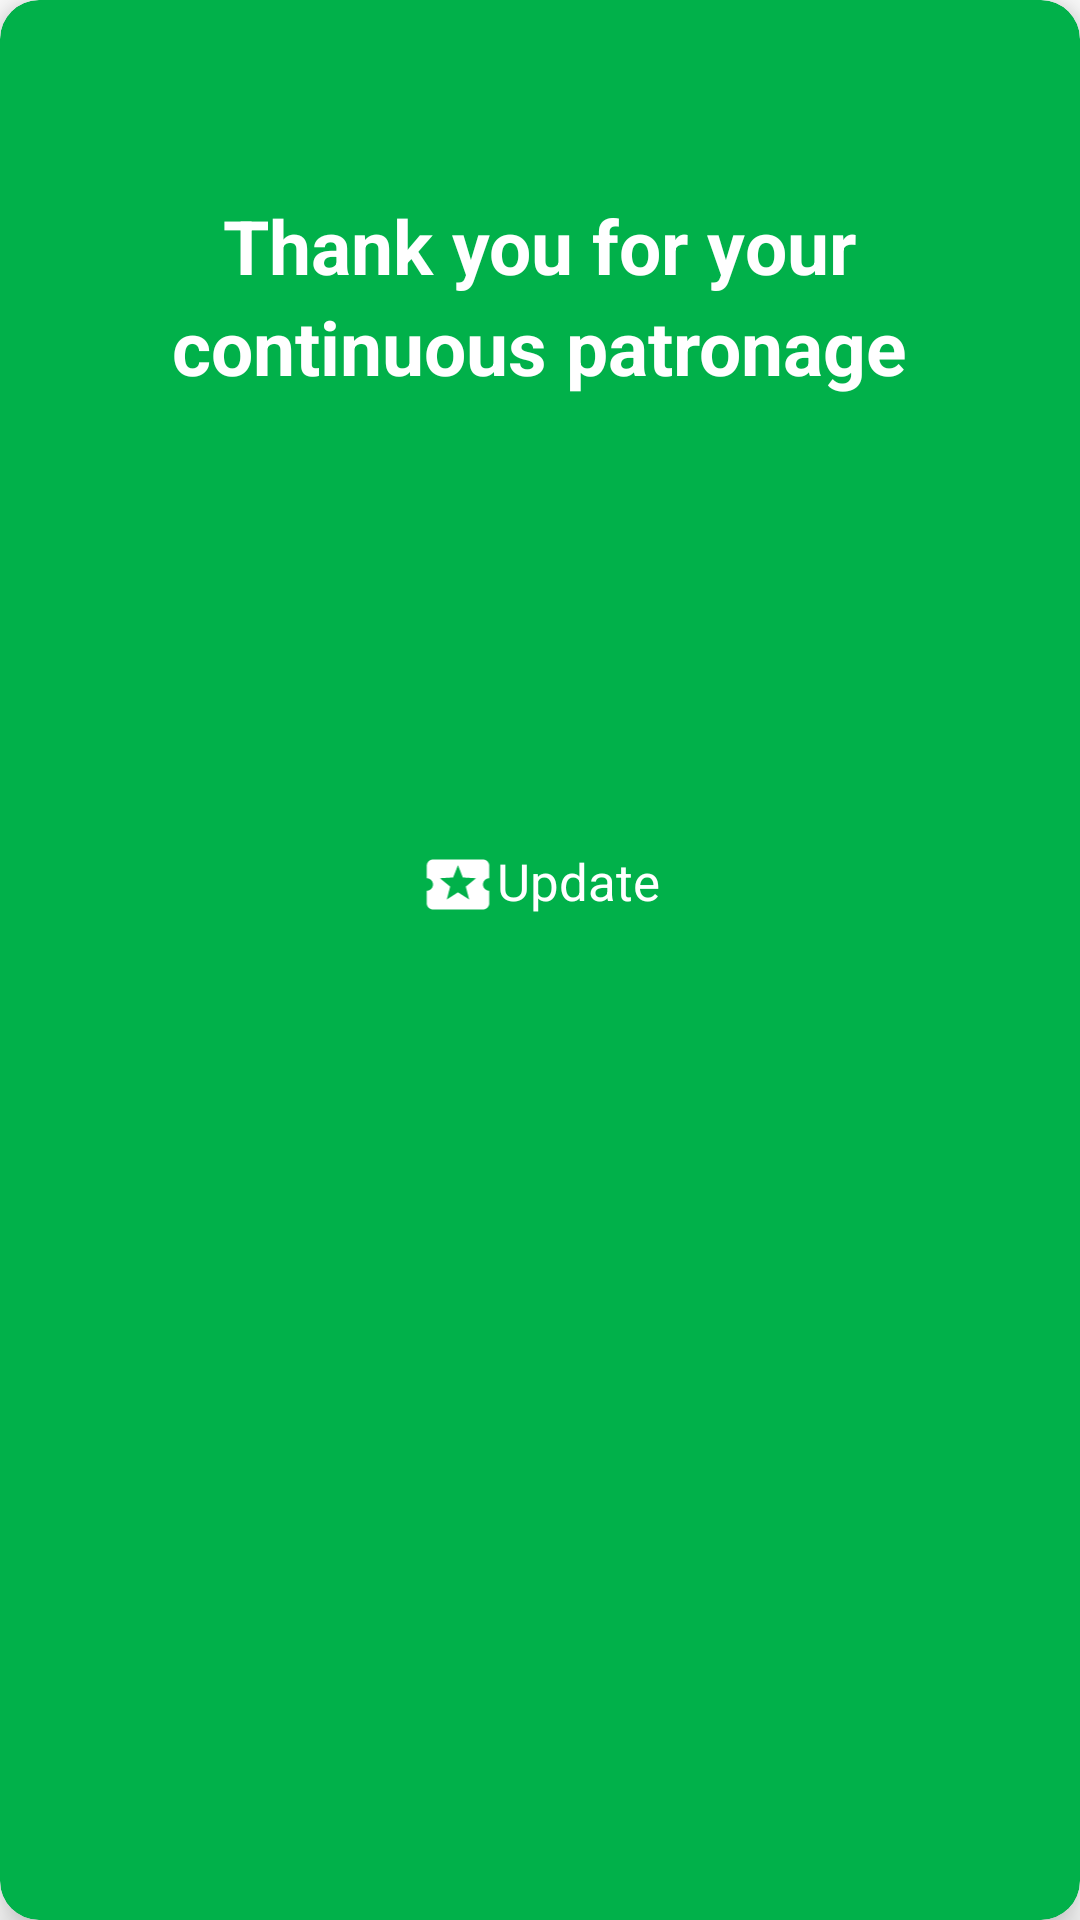

Screen size 1080w x 1920h. Icon name, then its center in pixels as [x,y]:
local activity: [458,884]
